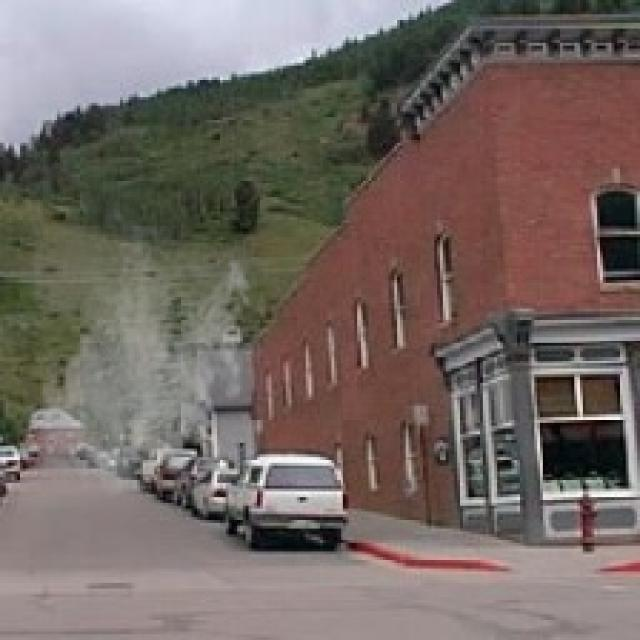Smoke: (31, 225, 258, 506)
